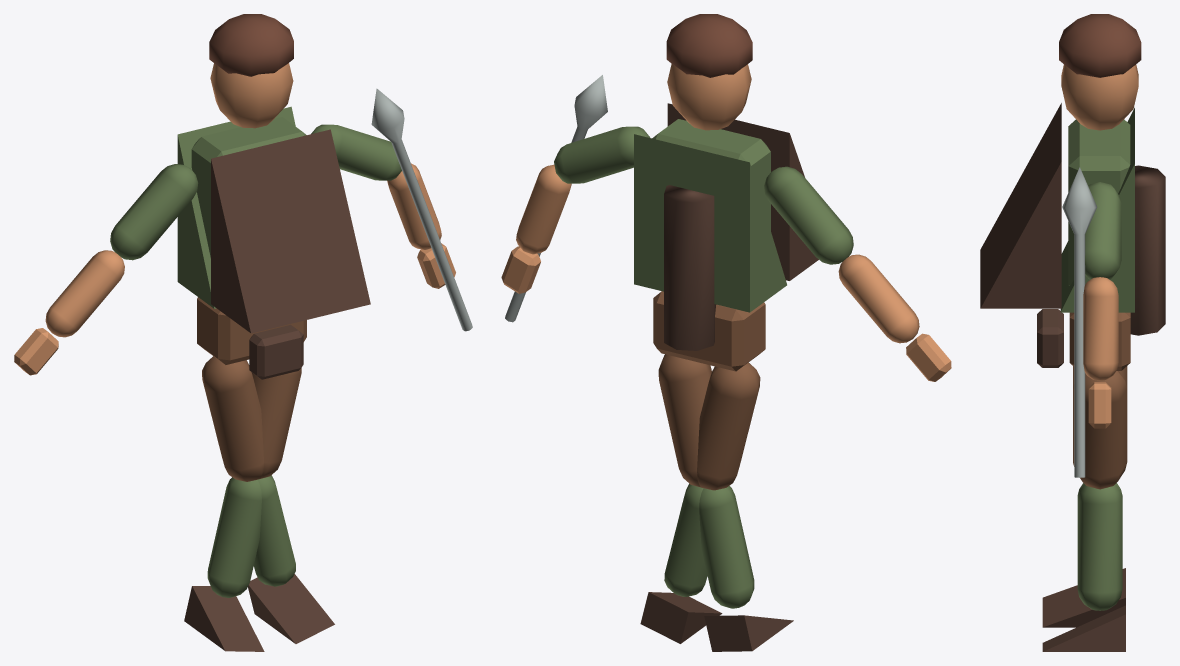
The model's file is adventurer.rustic.glb.
The picture shows the model from 3 angles, left to right: view 1: azimuth 30°, elevation 25°; view 2: azimuth 150°, elevation 25°; view 3: azimuth 270°, elevation 25°; orthographic projection.
Visible parts, largest first — view 1: accessory.body, thigh.left, shin.right, upper-arm.left, hair, tunic, head, forearm.left, accessory.main-hand, foot.left, torso, foot.right (+8 smaller); view 2: tunic, accessory.back, thigh.left, shin.right, upper-arm.left, hair, thigh.right, pelvis, head, forearm.left, accessory.body, upper-arm.right (+8 smaller); view 3: accessory.body, shin.left, accessory.back, hair, accessory.main-hand, torso, thigh.right, head, forearm.right, tunic, upper-arm.right, foot.left (+4 smaller).
Boxes of the visible parts, x1,y1,x2,y2 form: accessory.body: [211, 129, 370, 333]; thigh.left: [202, 356, 263, 481]; shin.right: [207, 477, 261, 597]; upper-arm.left: [110, 164, 198, 260]; hair: [209, 14, 293, 76]; tunic: [177, 106, 295, 308]; head: [210, 63, 293, 128]; forearm.left: [45, 250, 124, 337]; accessory.main-hand: [371, 88, 472, 331]; foot.left: [248, 574, 334, 643]; torso: [191, 117, 306, 257]; foot.right: [184, 586, 264, 651]; tunic: [634, 134, 786, 312]; accessory.back: [664, 185, 716, 350]; thigh.left: [697, 362, 760, 490]; shin.right: [699, 486, 754, 608]; upper-arm.left: [764, 166, 853, 264]; hair: [666, 14, 752, 77]; thigh.right: [658, 354, 711, 487]; pelvis: [653, 291, 765, 371]; head: [667, 64, 751, 130]; forearm.left: [838, 254, 919, 343]; accessory.body: [667, 103, 818, 280]; upper-arm.right: [554, 126, 650, 183]; accessory.body: [980, 103, 1061, 308]; shin.left: [1077, 484, 1122, 610]; accessory.back: [1130, 165, 1165, 335]; hair: [1059, 14, 1141, 77]; accessory.main-hand: [1062, 167, 1097, 477]; torso: [1068, 119, 1130, 285]; thigh.right: [1073, 371, 1127, 489]; head: [1061, 64, 1138, 130]; forearm.right: [1083, 277, 1118, 380]; tunic: [1060, 107, 1134, 312]; upper-arm.right: [1085, 182, 1121, 279]; foot.left: [1042, 605, 1125, 651].
Bounding box in the file's own units: 2.31 × 3.01 × 0.82.
